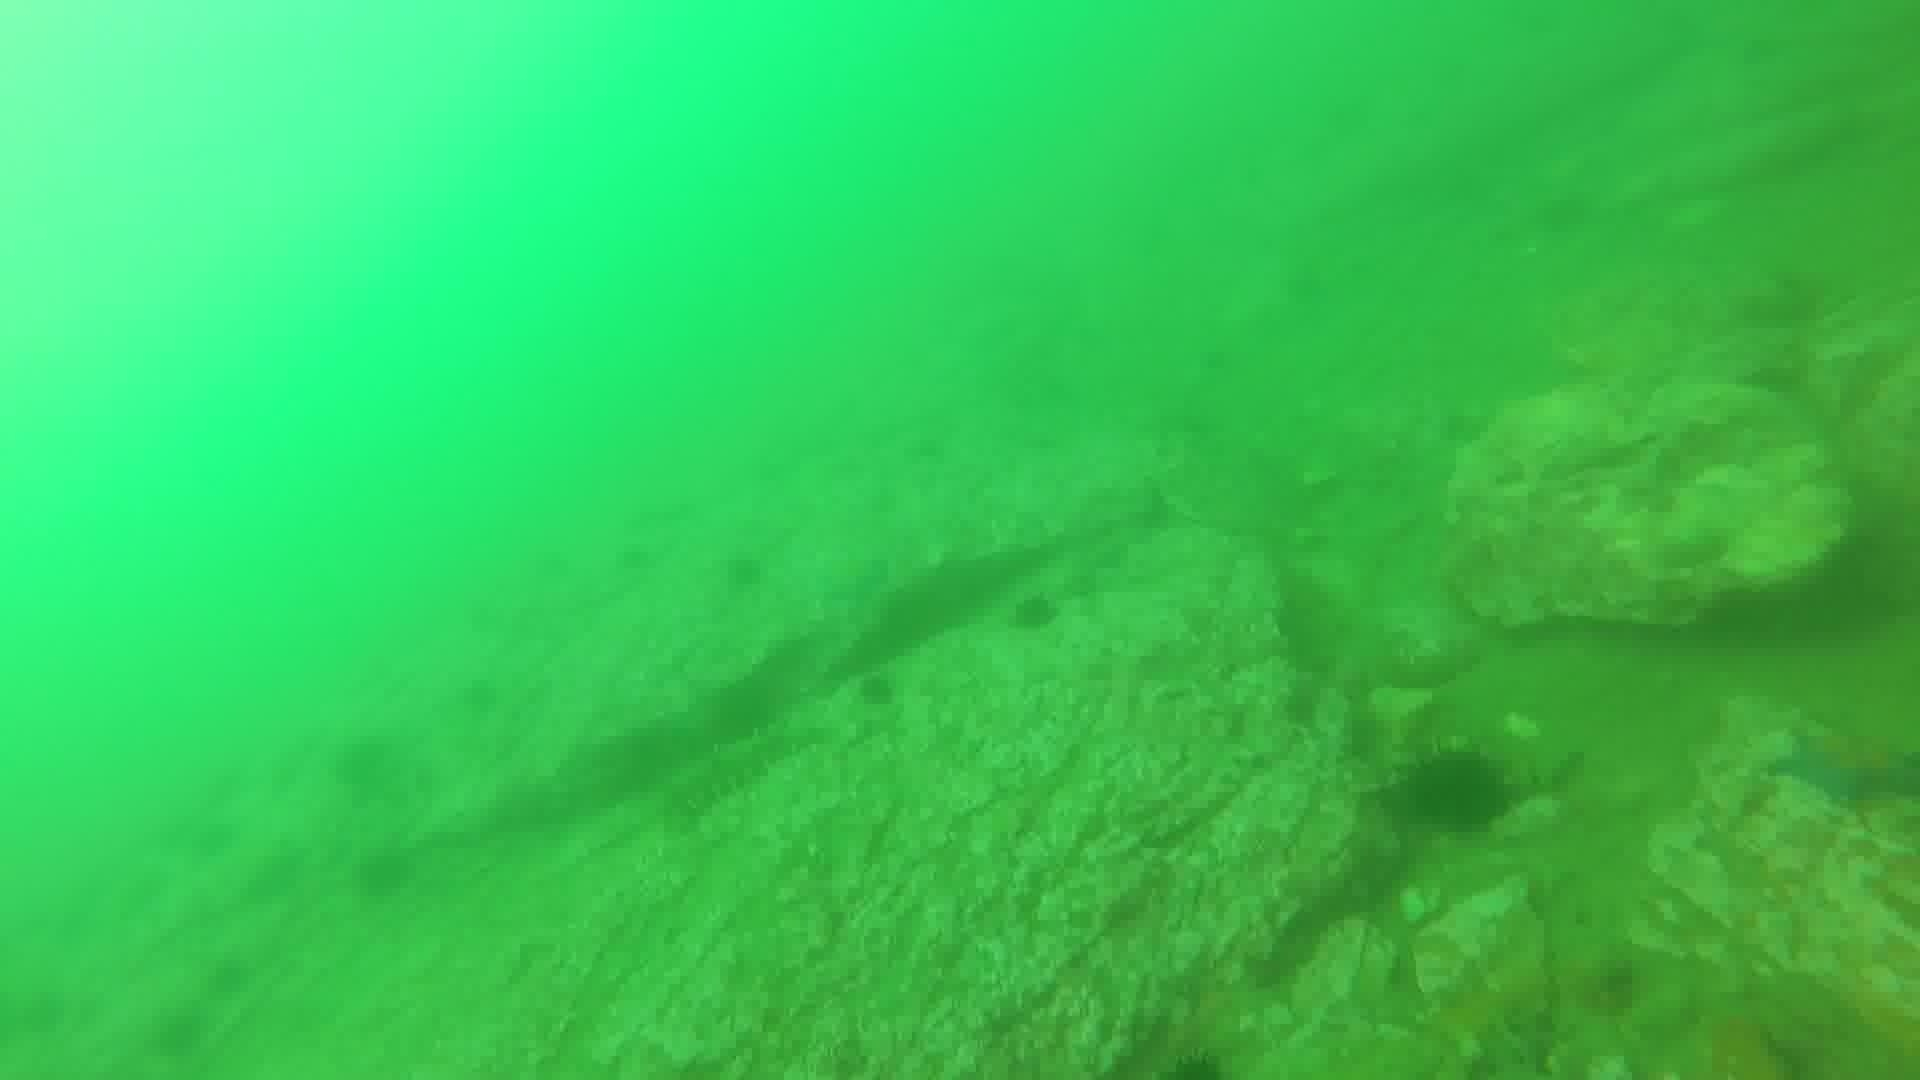echinus: (1396, 742, 1516, 839), (328, 727, 411, 802), (704, 673, 783, 745), (349, 840, 419, 905), (1004, 585, 1065, 637), (716, 545, 771, 597), (849, 667, 905, 713)
holothurian: (661, 724, 796, 822)
starfish: (1764, 717, 1917, 816)
